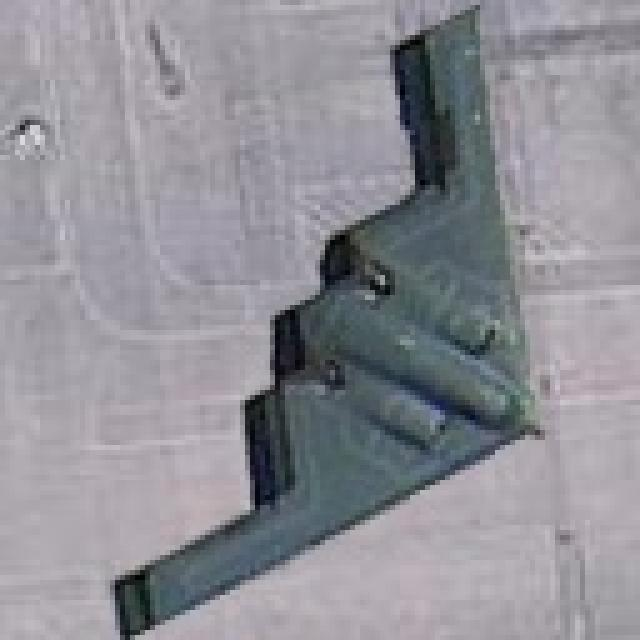B-2_TopDown: (105, 0, 550, 635)
